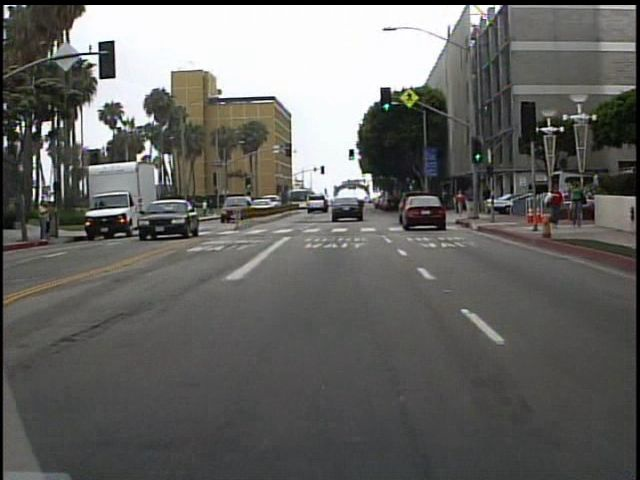person: (38, 196, 56, 242), (465, 183, 479, 219), (451, 189, 467, 217)
